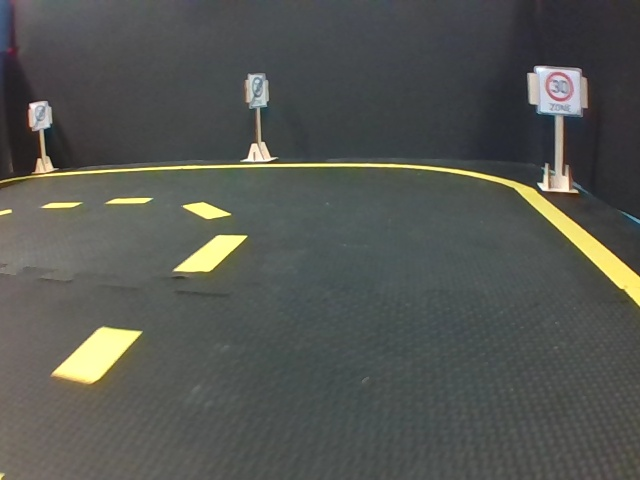30: (537, 68, 581, 114)
no30: (29, 102, 49, 128), (249, 76, 266, 106)
